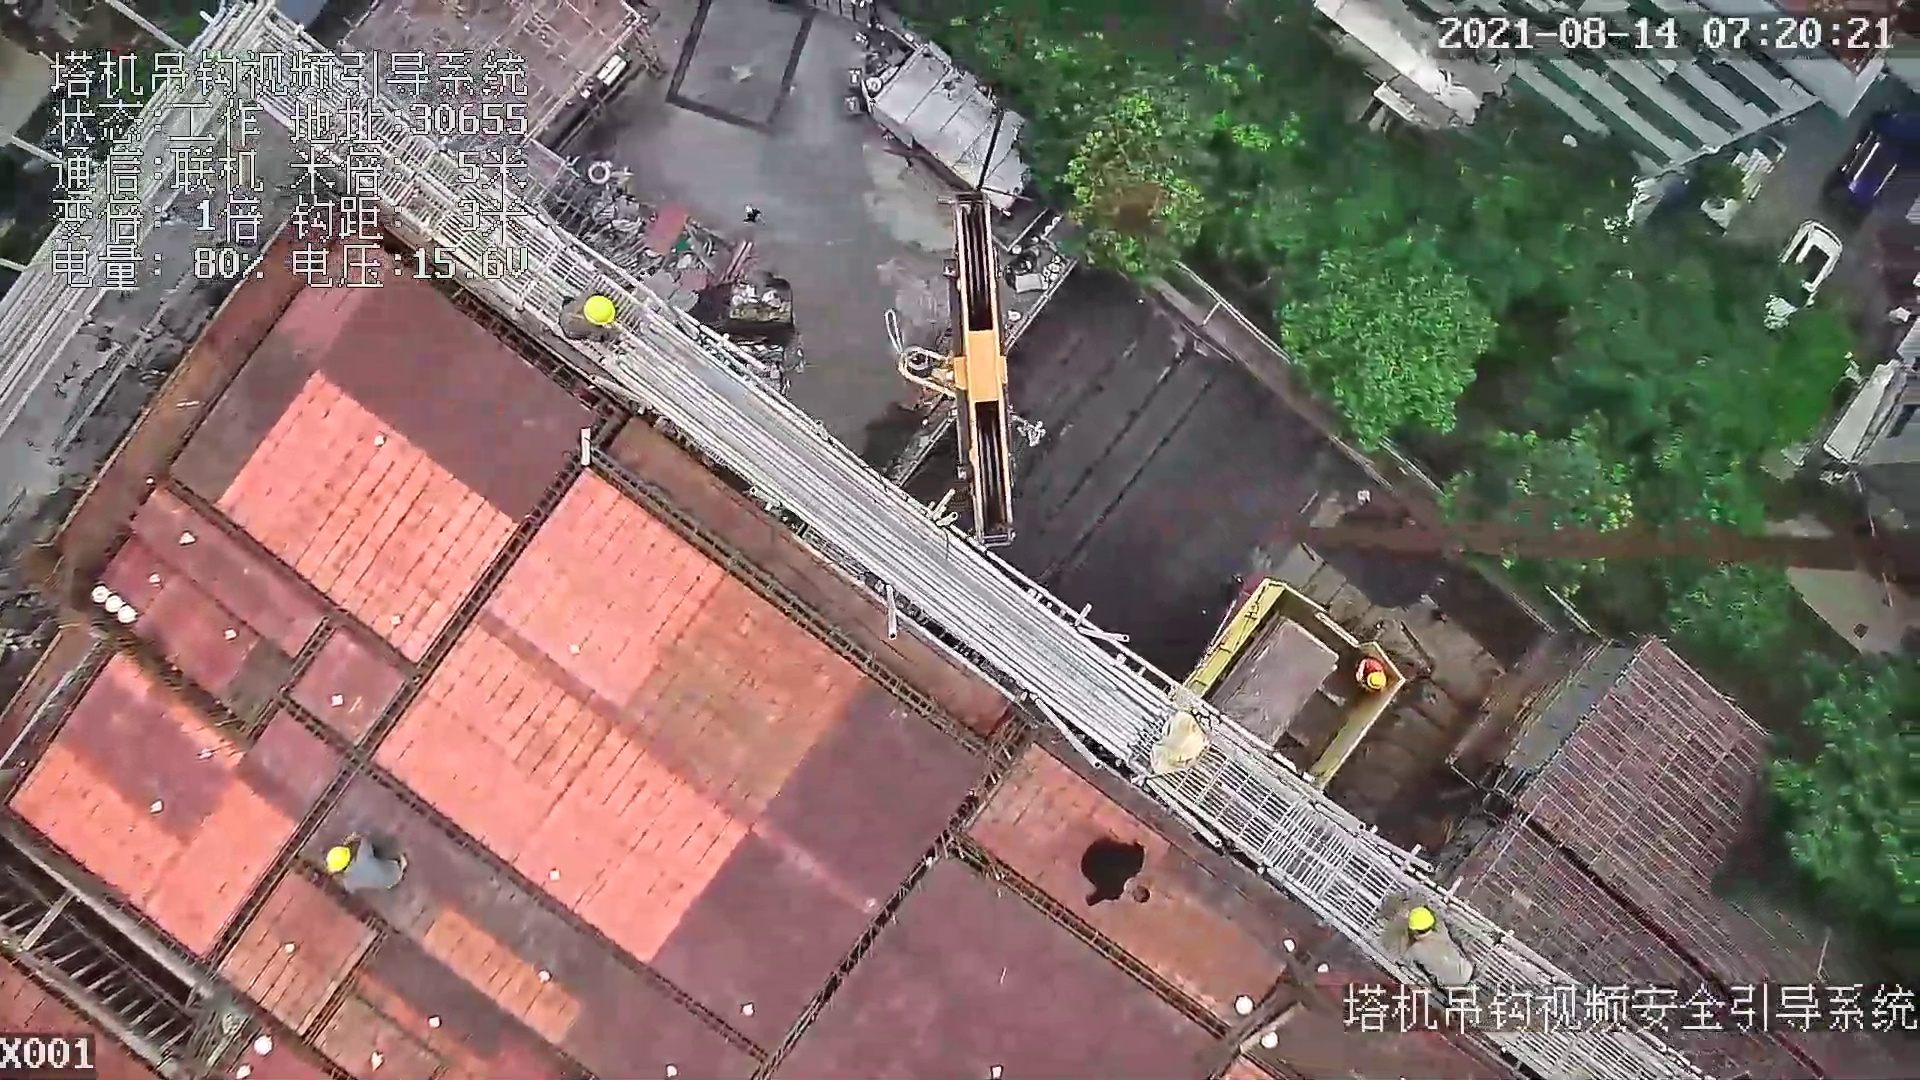helmet: (574, 294, 621, 328), (1406, 904, 1438, 938), (325, 845, 349, 876), (1366, 671, 1388, 694)
person: (1394, 905, 1479, 991), (1081, 835, 1160, 915), (332, 830, 410, 886), (560, 283, 626, 346), (1352, 643, 1391, 702)
